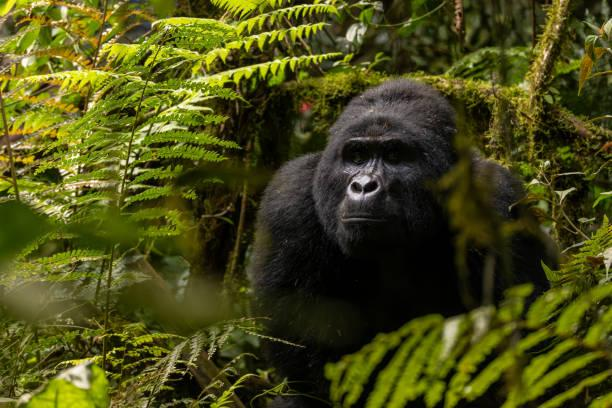goriile_montagne: (232, 55, 572, 338)
